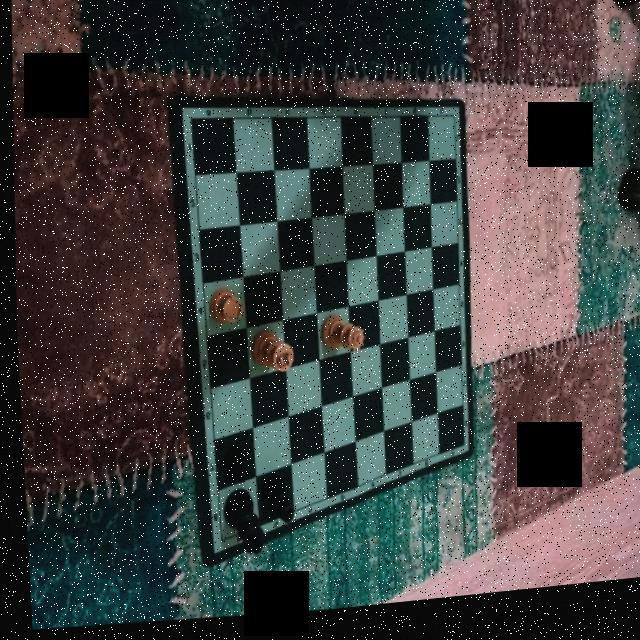chess-table-corners: (206, 529, 224, 557), (449, 440, 467, 464), (182, 110, 198, 135), (444, 116, 460, 134)
